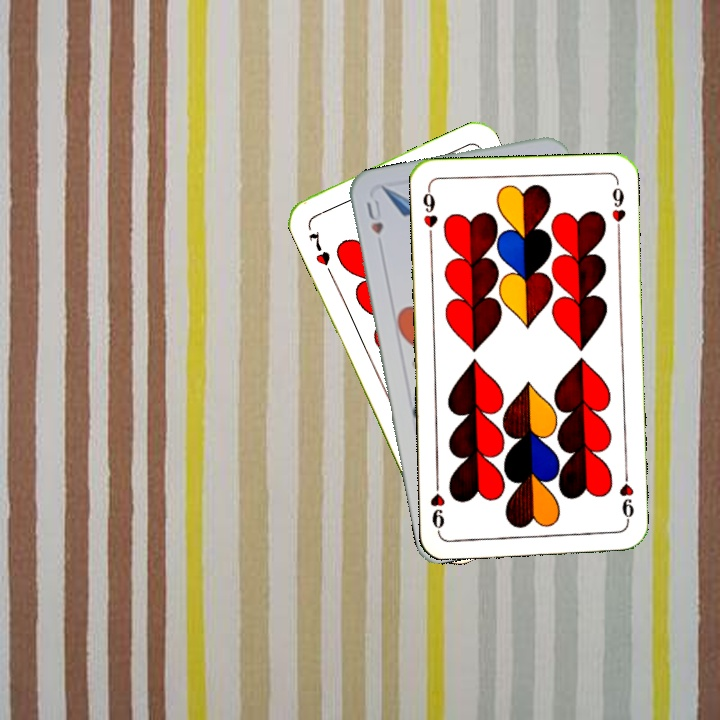H7: (304, 227, 333, 268)
H9: (418, 184, 440, 243), (615, 468, 637, 527)
HU: (362, 195, 386, 237)
